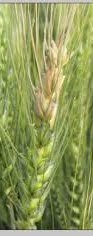Wheat scab: (22, 34, 75, 218)
